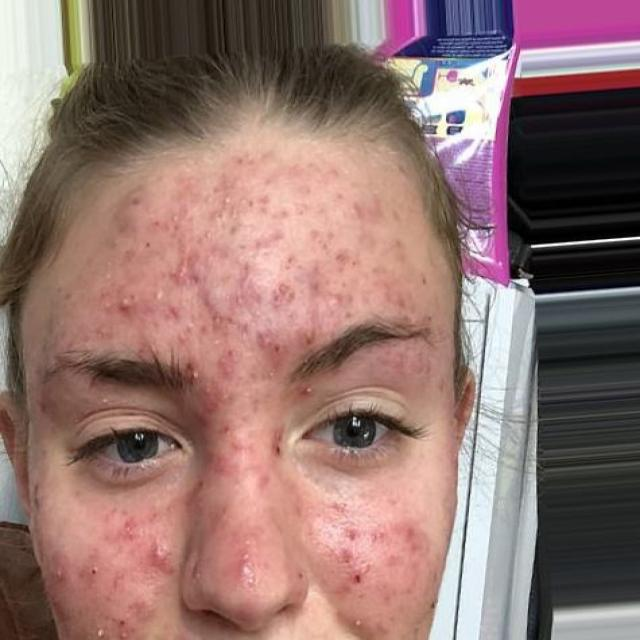acne: (272, 261, 362, 320), (93, 512, 184, 570), (184, 278, 258, 345), (206, 540, 276, 596), (83, 579, 146, 640), (330, 520, 372, 601), (380, 510, 446, 560), (104, 280, 169, 328), (120, 198, 181, 246), (258, 336, 328, 368)
